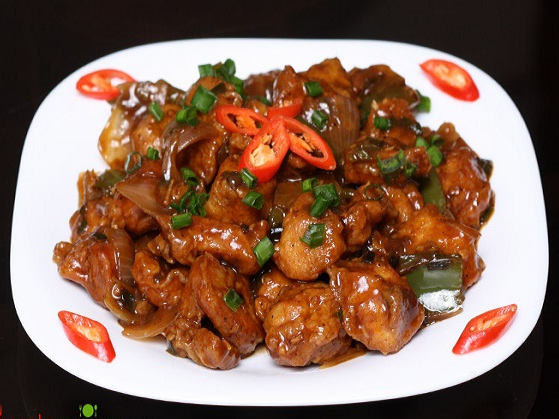meatballs: (198, 169, 441, 356)
